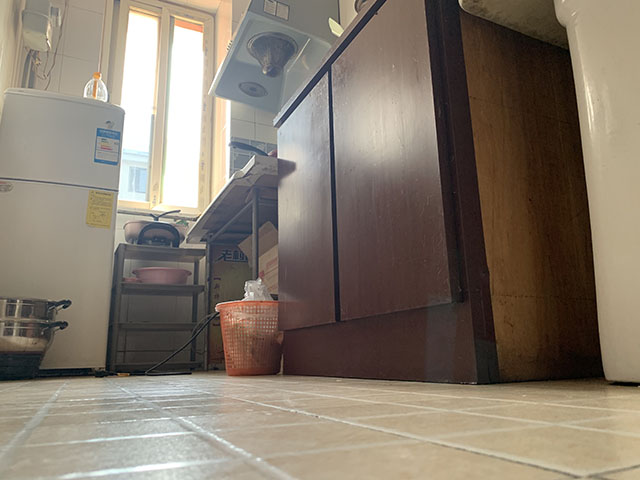cabinet: (272, 1, 605, 386)
trashcan: (213, 298, 283, 376)
